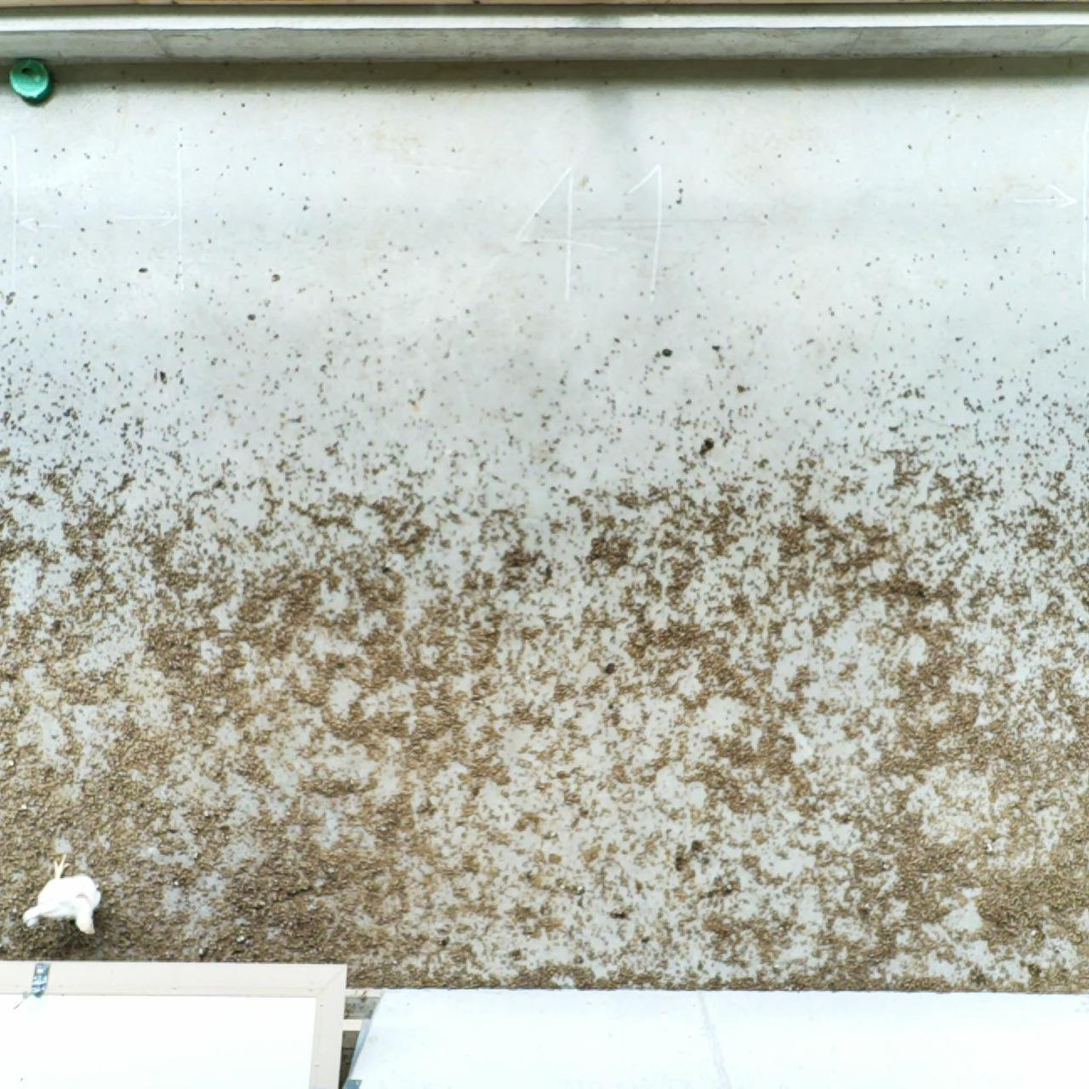chicken: (21, 853, 104, 939)
